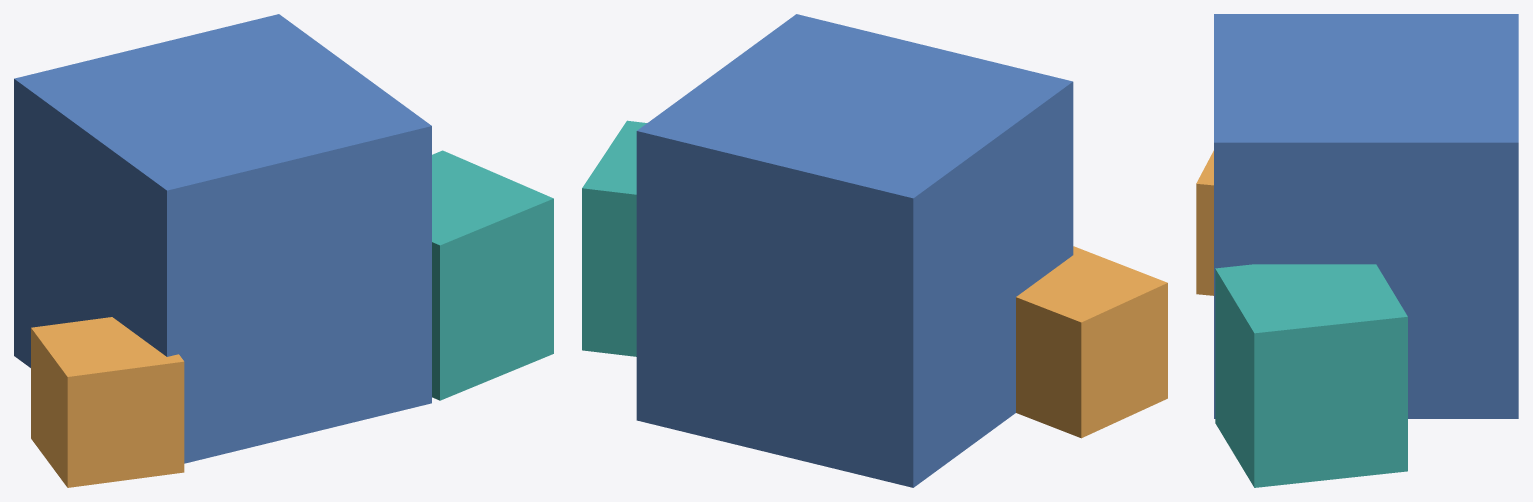
3 renders of one model, left to right at view 1: azimuth 30°, elevation 25°; view 2: azimuth 150°, elevation 25°; view 3: azimuth 270°, elevation 25°, orthographic. The views are drawn at different scales.
Visible parts, largest first — view 1: Large, Medium, Small; view 2: Large, Small, Medium; view 3: Large, Medium, Small.
Part boxes in pixels (x1,y1,x2,y2): Large: [14, 14, 431, 463]; Medium: [432, 150, 553, 400]; Small: [31, 317, 184, 487]; Large: [636, 14, 1073, 487]; Small: [1016, 246, 1167, 438]; Medium: [582, 120, 646, 356]; Large: [1214, 14, 1518, 418]; Medium: [1215, 264, 1407, 487]; Small: [1196, 150, 1213, 295].
Size of the model in its own units: 1.9 by 1 by 1.06.
